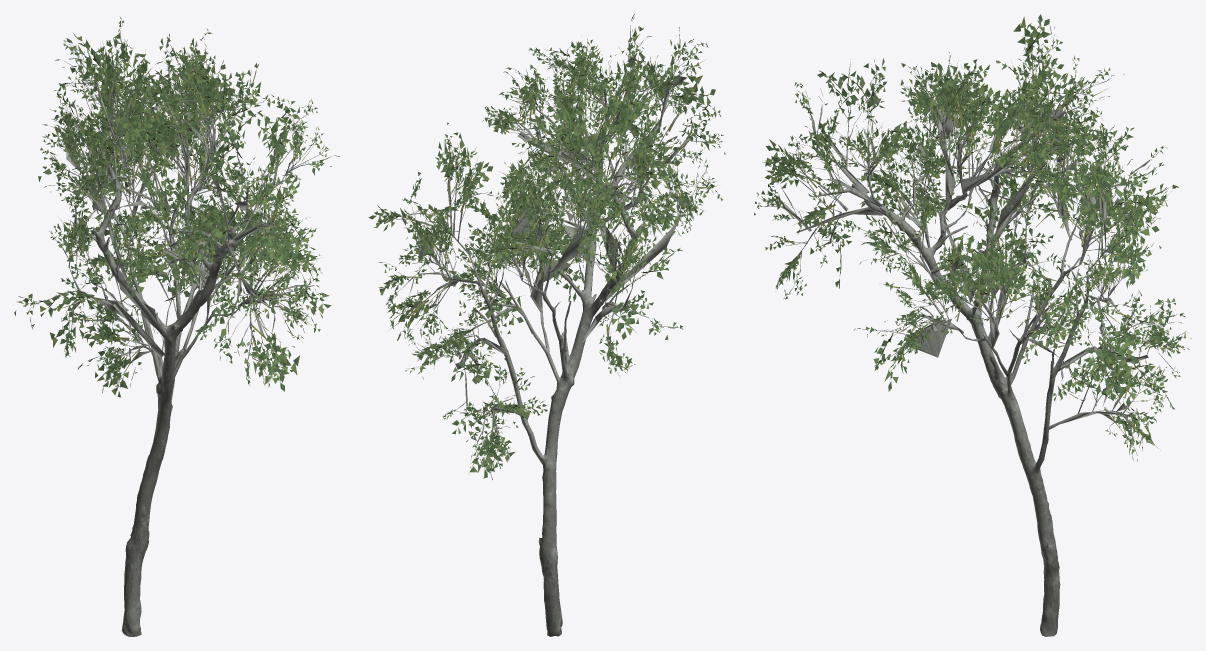
Rendered from natural-birch-clear.glb.
The picture shows the model from 3 angles, left to right: view 1: azimuth 30°, elevation 25°; view 2: azimuth 150°, elevation 25°; view 3: azimuth 270°, elevation 25°; orthographic projection. The views are drawn at different scales.
Visible parts, largest first — view 1: natural-birch-clear runtime mesh; view 2: natural-birch-clear runtime mesh; view 3: natural-birch-clear runtime mesh.
Part boxes in pixels (left/top/right/bottom): natural-birch-clear runtime mesh: left=14, top=17, right=339, bottom=636; natural-birch-clear runtime mesh: left=368, top=14, right=725, bottom=636; natural-birch-clear runtime mesh: left=754, top=14, right=1191, bottom=636.
Bounding box in the file's own units: 2.39 × 5.09 × 3.44.
Materials: 3 (3 with a texture image).
